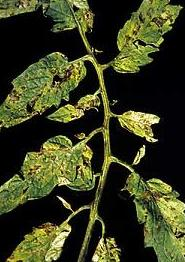Tomato Septoria leaf spot: (0, 134, 99, 225), (0, 54, 81, 136), (123, 164, 185, 262), (113, 0, 181, 69), (0, 0, 89, 43), (0, 219, 70, 262), (114, 108, 163, 142), (53, 94, 96, 129)
